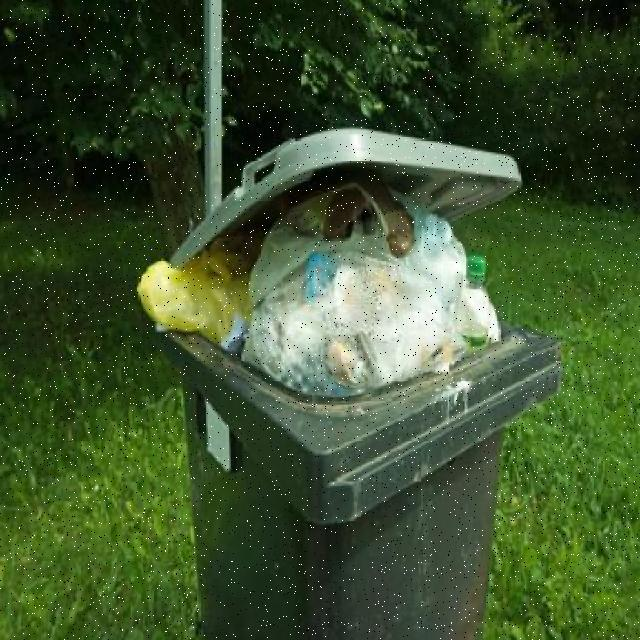garbage container: (147, 301, 556, 640)
